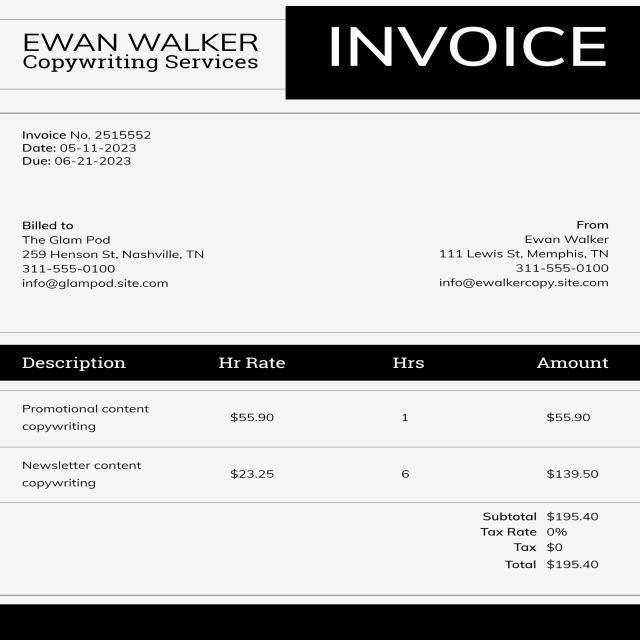ROI: (12, 339, 622, 501), (289, 7, 635, 102), (9, 14, 266, 95), (12, 211, 228, 304), (419, 207, 624, 294), (467, 507, 612, 579), (16, 123, 160, 171)
